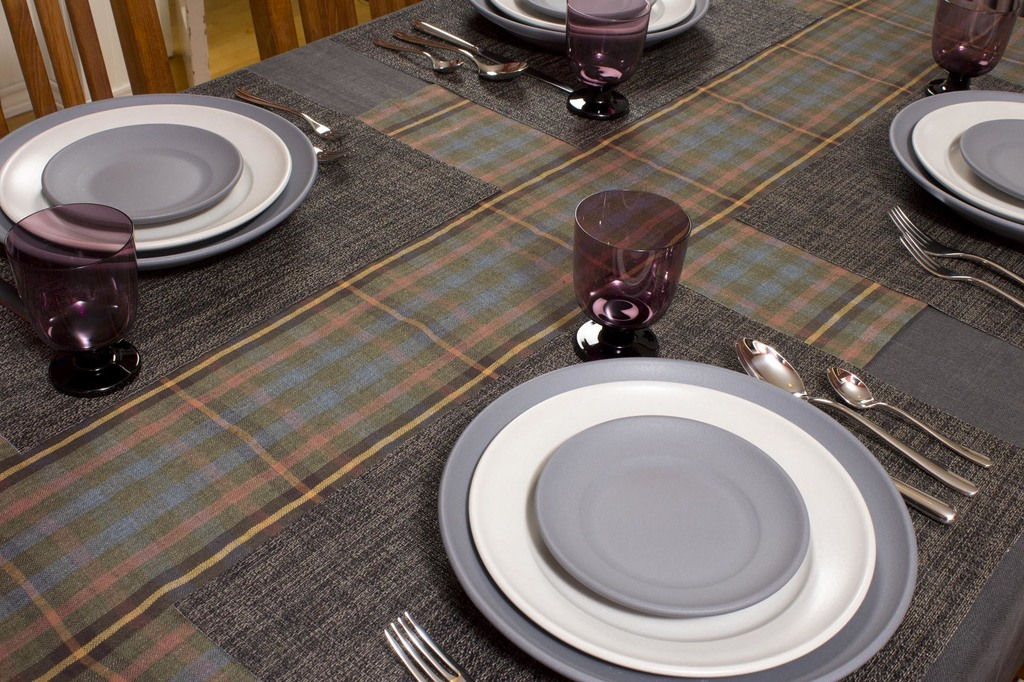plate: (530, 413, 814, 616)
